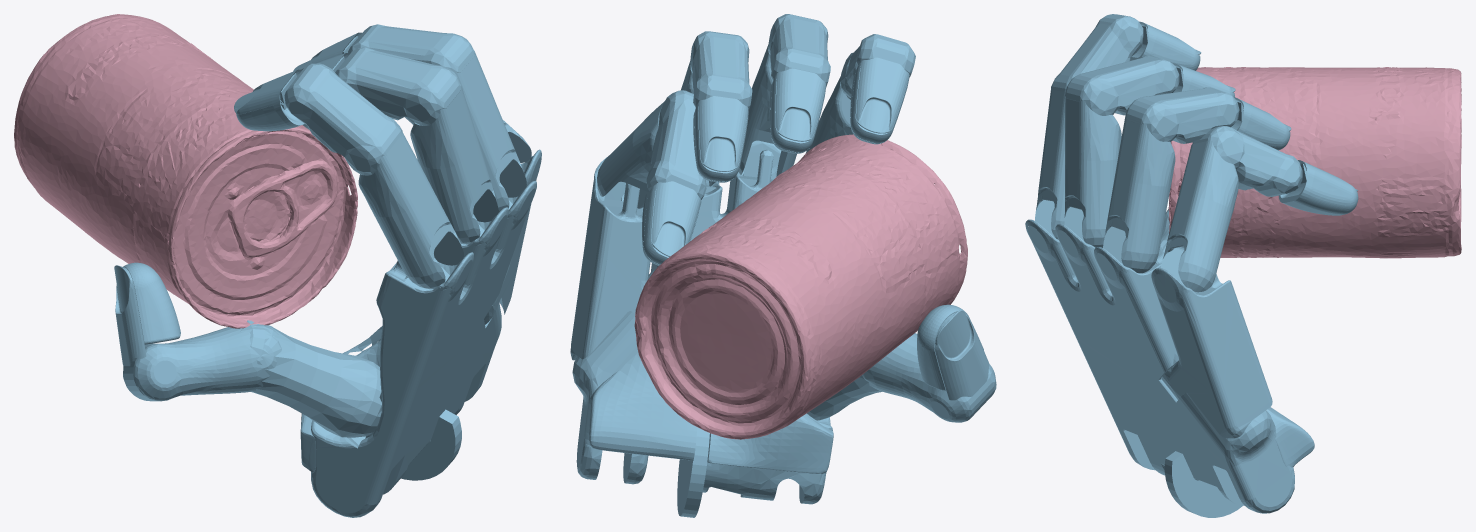
3 views of the same model, side by side, from view 1: azimuth 30°, elevation 25°; view 2: azimuth 150°, elevation 25°; view 3: azimuth 270°, elevation 25° (orthographic). The views are drawn at different scales.
Parts seen in each view (by area): view 1: world; view 2: world; view 3: world.
Boxes of the visible parts, x1=… form: world: x1=14, y1=14, x2=541, y2=517; world: x1=570, y1=14, x2=996, y2=517; world: x1=1025, y1=14, x2=1461, y2=517.
Bounding box in the file's own units: 0.1469 × 0.1672 × 0.1515.
